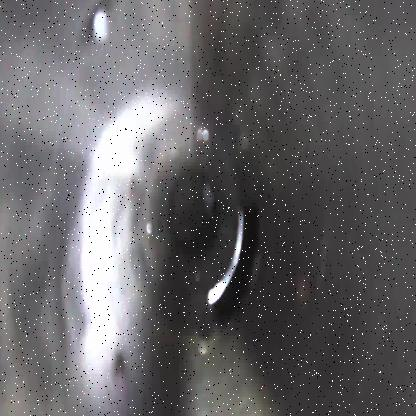Crack2: (206, 202, 262, 333)
